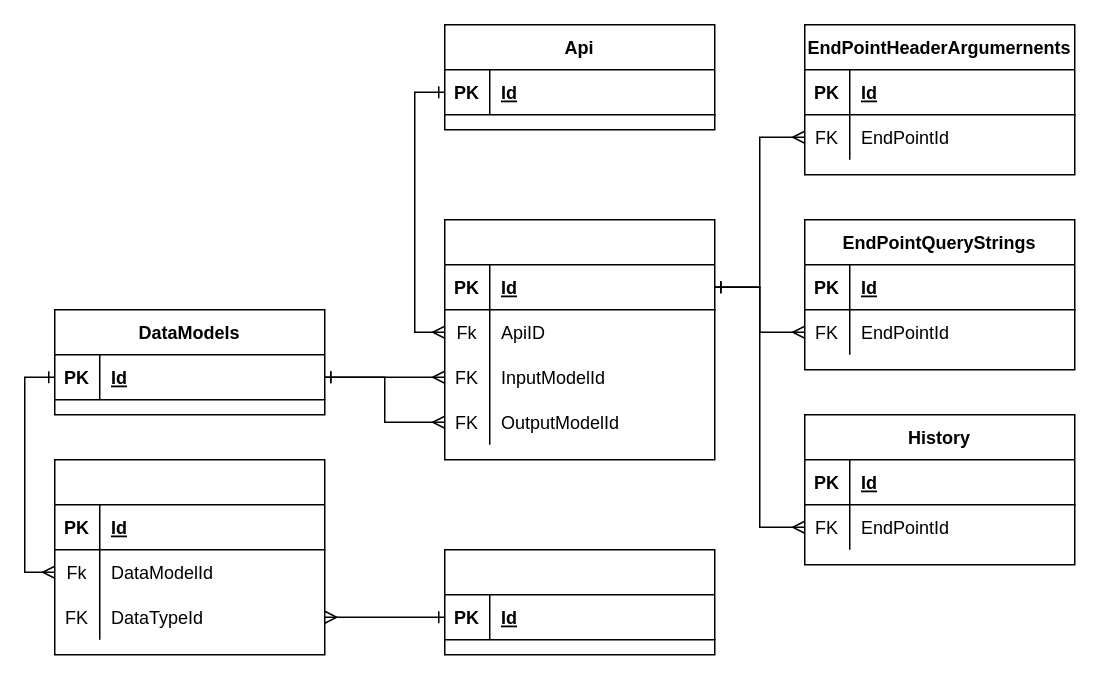
Some shapes in this 1100 by 680 pixel diagram are drawn without their labels. The box of each missing label's shape, as (x1, y1, x2, y2) in pixels:
DataModelColumns: (53, 458, 325, 655)
DataTypes: (443, 548, 715, 655)
EndPoints: (443, 218, 715, 460)
